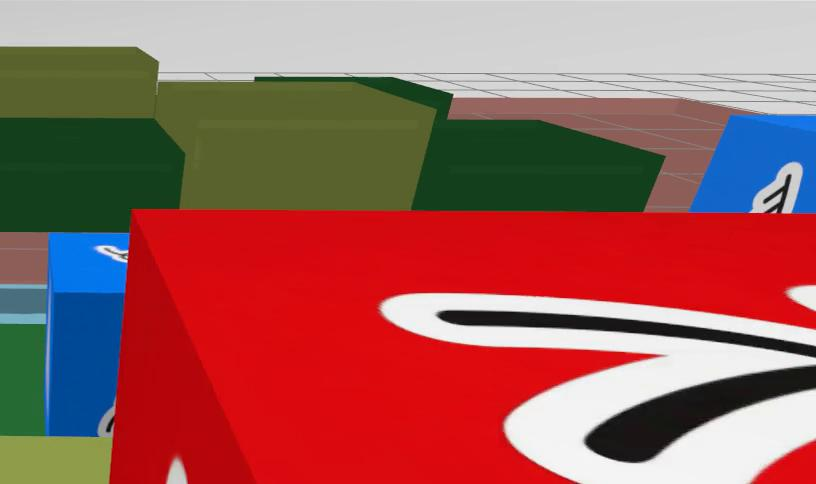KFS_FAKE: (111, 212, 815, 484), (380, 293, 815, 484), (166, 457, 188, 484)
KFS_REAL: (45, 233, 129, 435), (690, 115, 815, 213)
